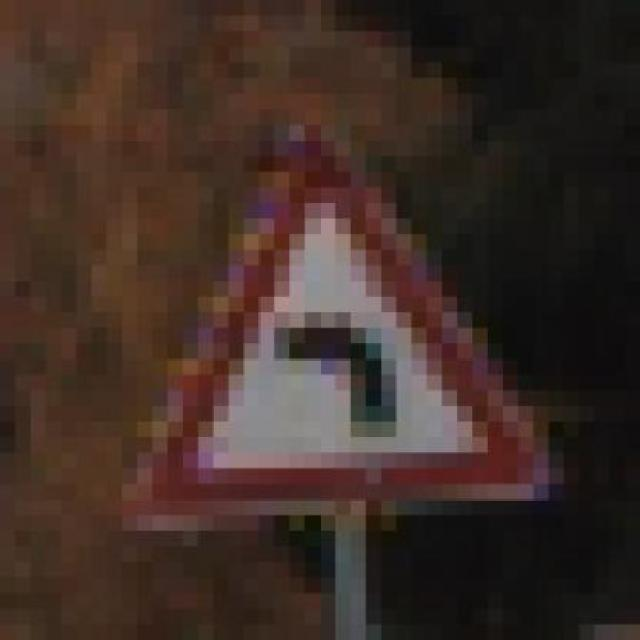Dangerous Left Curve Ahead: (92, 109, 579, 531)
